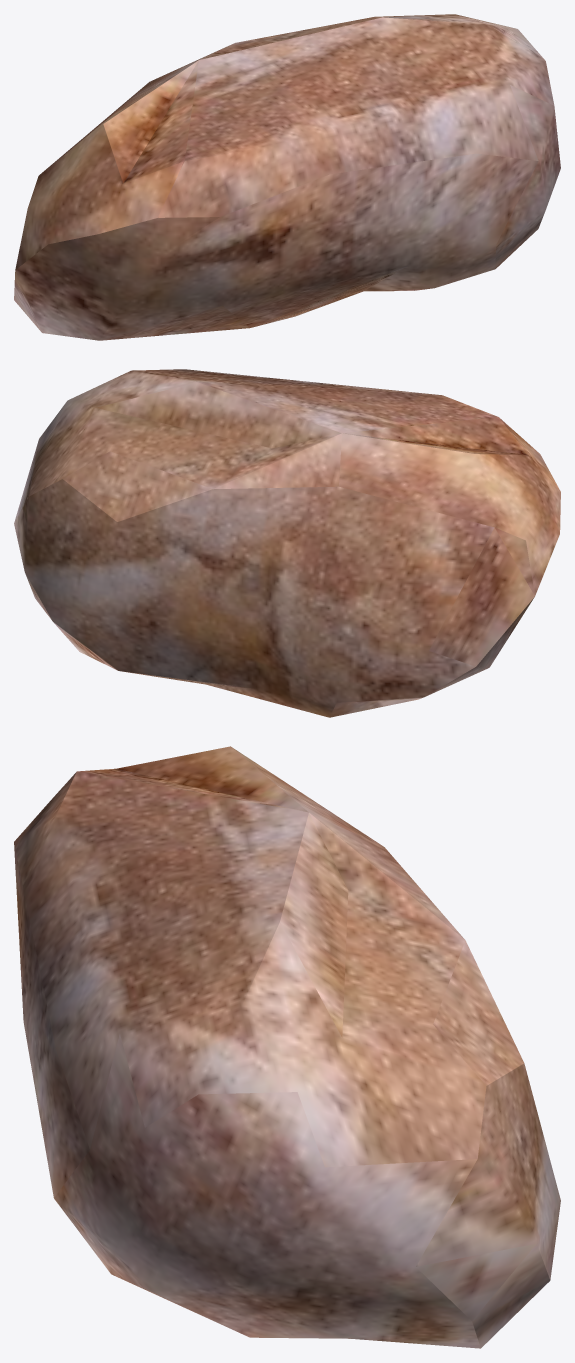
Rendered from rock070.glb.
3 views of the same model, one above another, from view 1: azimuth 30°, elevation 25°; view 2: azimuth 150°, elevation 25°; view 3: azimuth 270°, elevation 25° (orthographic). The views are drawn at different scales.
Visible parts, largest first — view 1: rock070; view 2: rock070; view 3: rock070.
Boxes of the visible parts, x1,y1,x2,y2 form: rock070: (14, 14, 560, 340); rock070: (14, 369, 560, 717); rock070: (14, 746, 560, 1348).
Size of the model in its own units: 0.9913 by 0.5141 by 0.6082.
1 material, 1 textured.
